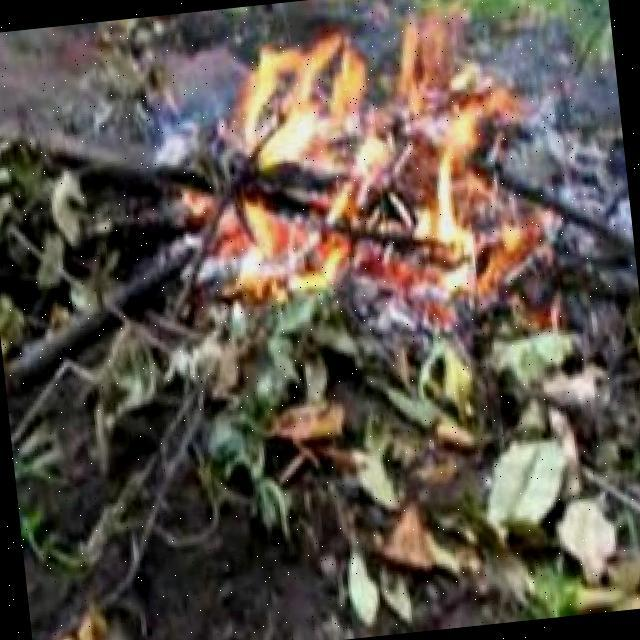Fire: (173, 6, 546, 325)
